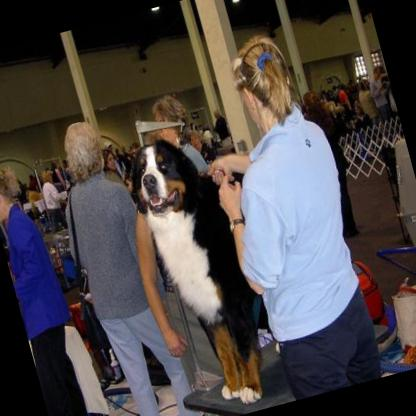Greater_Swiss_Mountain_dog: (115, 114, 304, 416)
